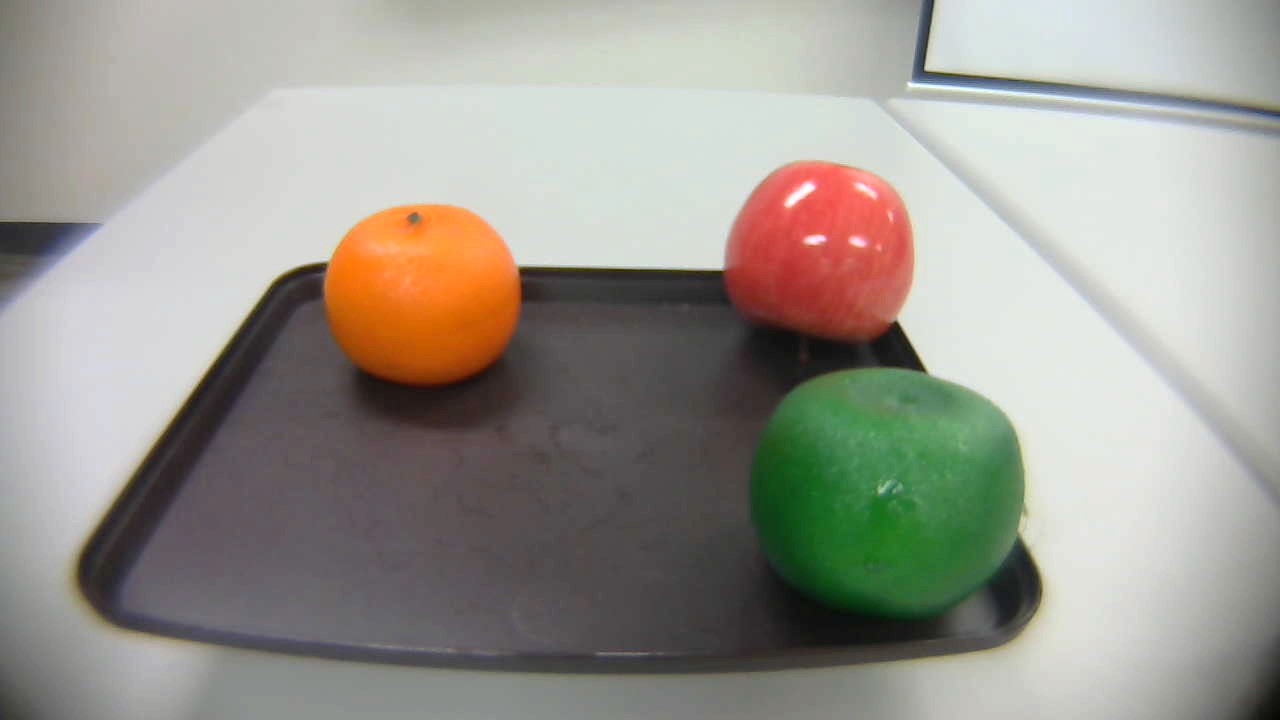green orange: (743, 363, 1030, 627)
orange: (305, 200, 531, 401)
red apple: (712, 148, 926, 374)
